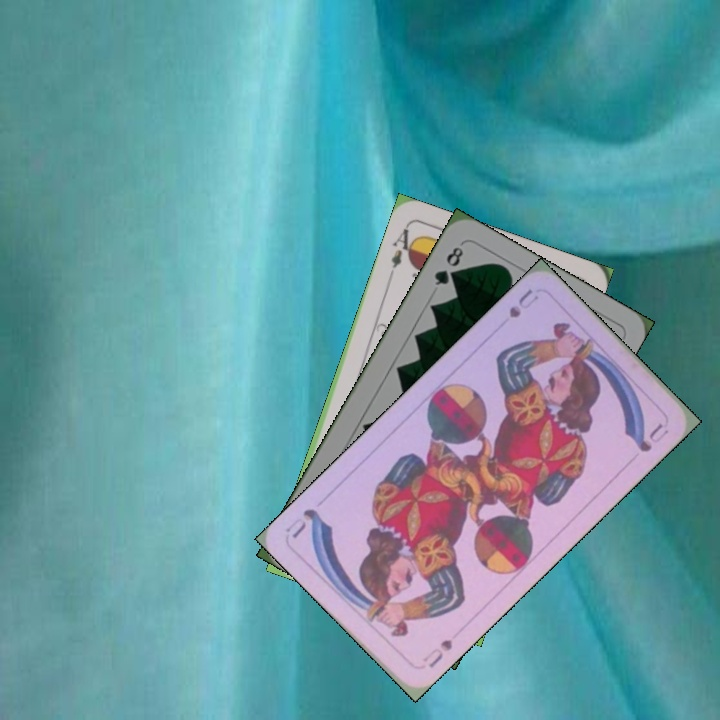EA: (387, 223, 419, 271)
G8: (430, 242, 466, 288)
SU: (505, 284, 541, 321), (419, 634, 455, 671)
